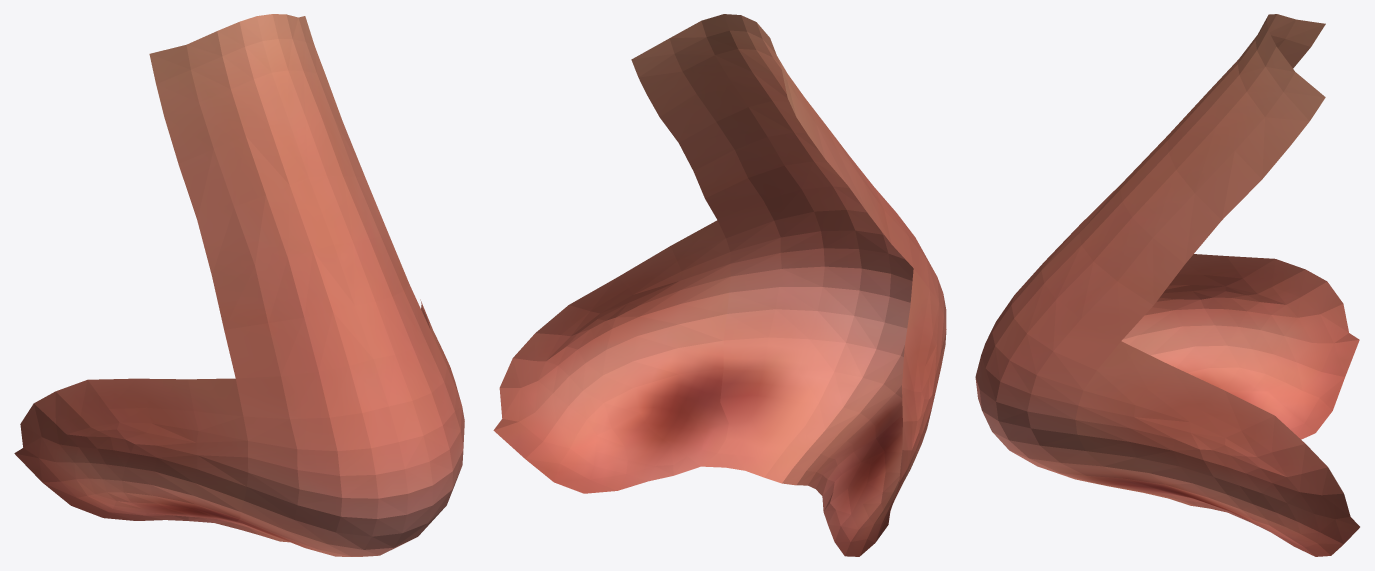
The model's file is euro-nose-pointed.obj.
The picture shows the model from 3 angles, left to right: view 1: azimuth 30°, elevation 25°; view 2: azimuth 150°, elevation 25°; view 3: azimuth 270°, elevation 25°; orthographic projection. The views are drawn at different scales.
Visible parts, largest first — view 1: euro-nose-pointed.001; view 2: euro-nose-pointed.001; view 3: euro-nose-pointed.001.
Boxes of the visible parts, x1,y1,x2,y2 form: euro-nose-pointed.001: (14,14,464,556); euro-nose-pointed.001: (493,14,946,556); euro-nose-pointed.001: (975,14,1359,556).
Size of the model in its own units: 0.215 by 0.2566 by 0.1861.
1 material, 1 textured.
